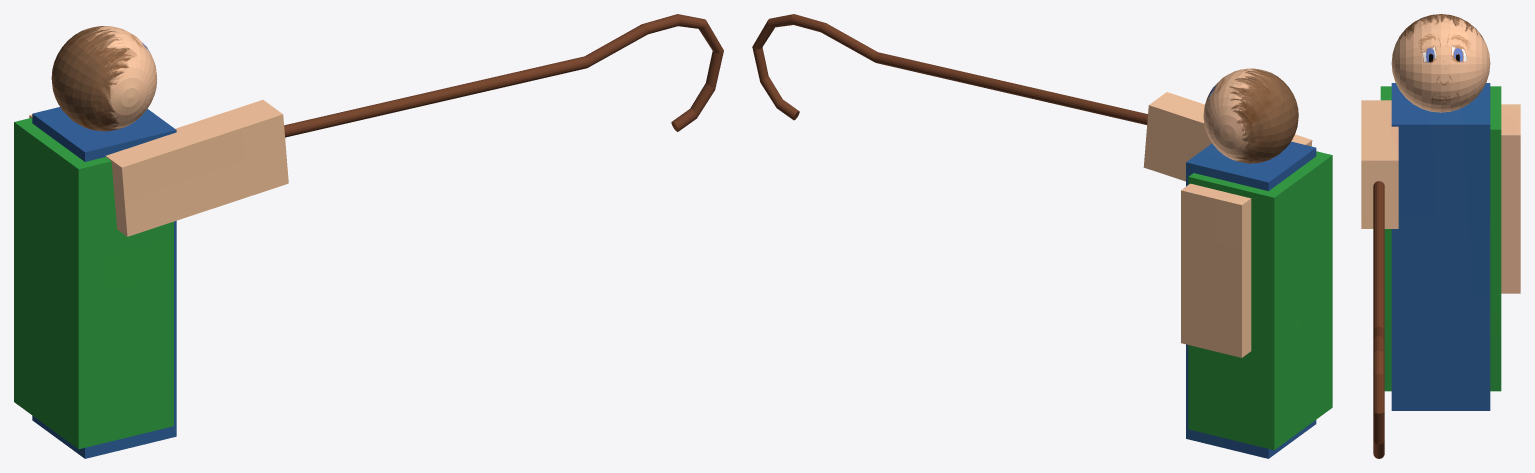
Rendered from shepArmDown.fbx.
3 renders of one model, left to right at view 1: azimuth 30°, elevation 25°; view 2: azimuth 150°, elevation 25°; view 3: azimuth 270°, elevation 25°, orthographic. The views are drawn at different scales.
Parts seen in each view (by area): view 1: Sphere.001; view 2: Sphere.001; view 3: Sphere.001.
Part boxes in pixels (x1=…): Sphere.001: x1=14, y1=14, x2=723, y2=458; Sphere.001: x1=752, y1=14, x2=1332, y2=458; Sphere.001: x1=1361, y1=14, x2=1520, y2=458.
Bounding box in the file's own units: 1406 × 830 × 323.
1 material, 1 textured.
